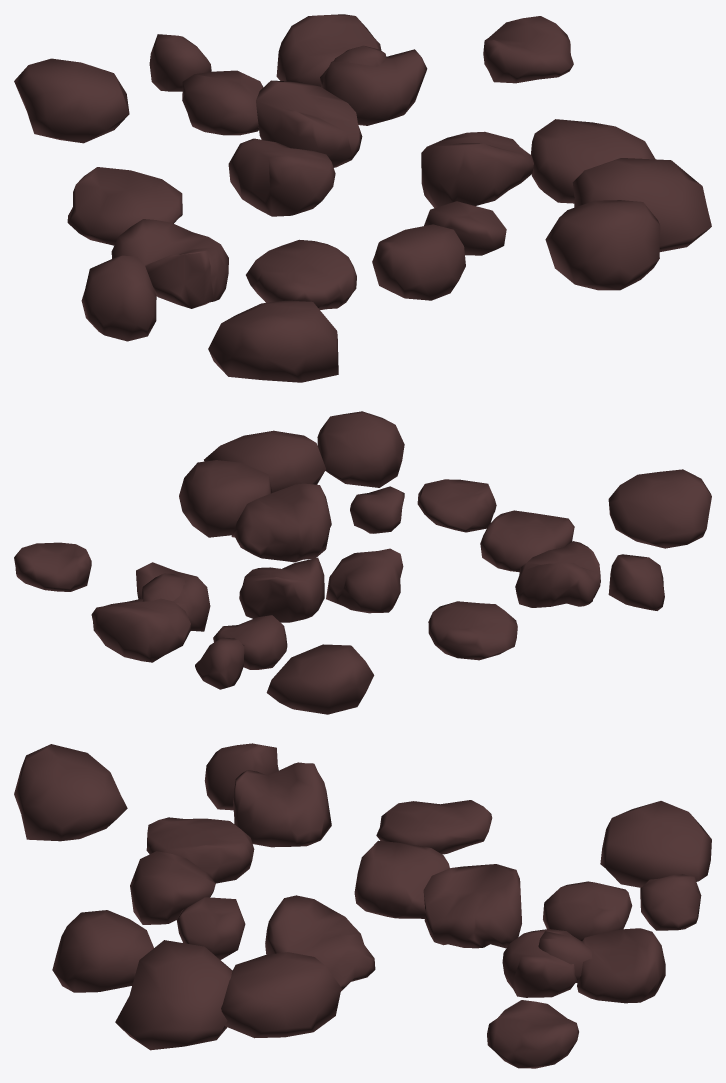
Rendered from bayRockFBX.fbx.
The picture shows the model from 3 angles, top to bottom: view 1: azimuth 30°, elevation 25°; view 2: azimuth 150°, elevation 25°; view 3: azimuth 270°, elevation 25°; orthographic projection. The views are drawn at different scales.
Parts seen in each view (by area): view 1: bolder16, bolder20, bolder10, bolder8, bolder11, bolder6, bolder12, bolder5, bolder3, bolder15, bolder1, bolder9 (+8 smaller); view 2: bolder16, bolder6, bolder10, bolder20, bolder15, bolder2, bolder11, bolder12, bolder8, bolder3, bolder1, bolder5 (+8 smaller); view 3: bolder8, bolder15, bolder16, bolder12, bolder10, bolder11, bolder20, bolder6, bolder2, bolder5, bolder1, bolder18 (+8 smaller).
Boxes of the visible parts, box(x1,y1,x2,y2) form: bolder16: box(208, 300, 338, 382); bolder20: box(545, 200, 660, 290); bolder10: box(14, 58, 129, 143); bolder8: box(572, 158, 711, 251); bolder11: box(111, 219, 228, 308); bolder6: box(421, 131, 533, 208); bolder12: box(256, 80, 362, 167); bolder5: box(228, 138, 335, 216); bolder3: box(67, 167, 182, 245); bolder15: box(530, 119, 655, 203); bolder1: box(246, 239, 356, 309); bolder9: box(372, 224, 465, 300); bolder16: box(608, 469, 711, 548); bolder6: box(231, 483, 331, 562); bolder10: box(266, 644, 374, 714); bolder20: box(317, 411, 404, 487); bolder15: box(179, 460, 271, 537); bolder2: box(91, 598, 190, 662); bolder11: box(515, 541, 600, 607); bolder12: box(239, 557, 324, 622); bolder8: box(204, 430, 325, 492); bolder3: box(428, 601, 517, 660); bolder1: box(480, 510, 574, 572); bolder5: box(326, 548, 403, 613); bolder8: box(115, 940, 232, 1050); bolder15: box(221, 952, 341, 1038); bolder16: box(14, 744, 127, 841); bolder12: box(423, 864, 521, 948); bolder10: box(600, 801, 711, 887); bolder11: box(233, 762, 331, 847); bolder20: box(52, 910, 153, 992); bolder6: box(265, 895, 375, 991); bolder2: box(577, 928, 665, 1003); bolder5: box(354, 840, 449, 918); bolder1: box(146, 817, 254, 883); bolder18: box(487, 1000, 578, 1068).
Size of the model in its own units: 22.1 by 2.73 by 22.16.
